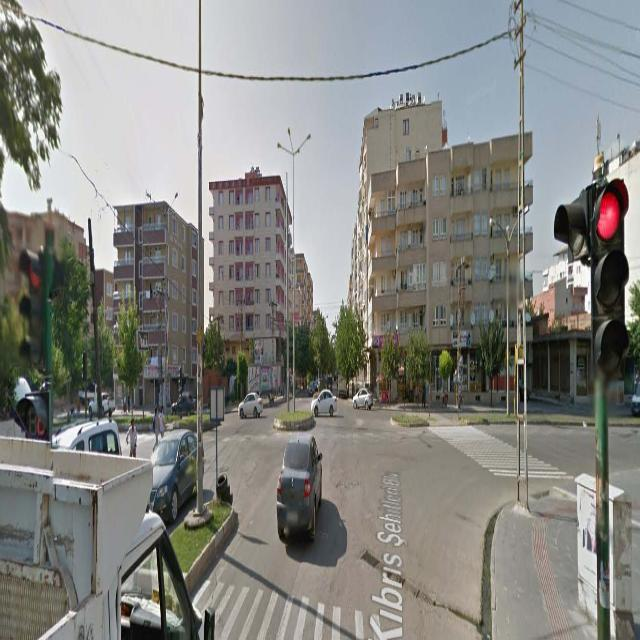kirmizi: (595, 186, 622, 364), (24, 252, 46, 362)
